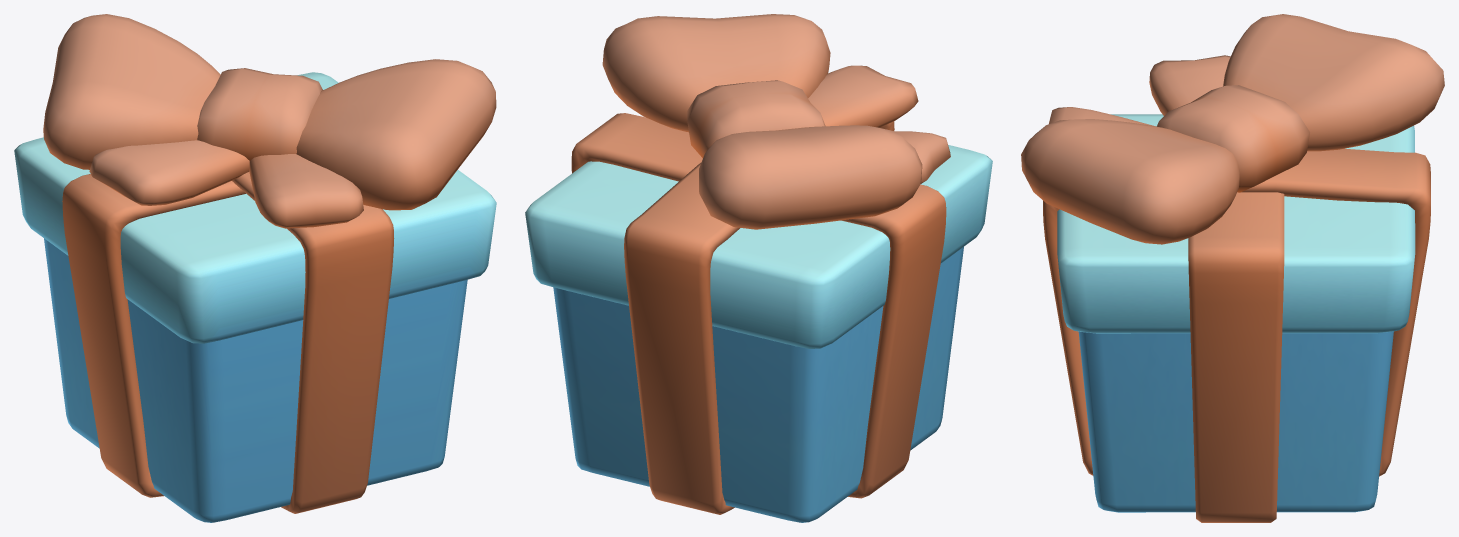
File: gift 01.fbx
The picture shows the model from 3 angles, left to right: view 1: azimuth 30°, elevation 25°; view 2: azimuth 150°, elevation 25°; view 3: azimuth 270°, elevation 25°; orthographic projection. The views are drawn at different scales.
Parts seen in each view (by area): view 1: gift 01 tie, gift 01 box, gift 01 rope, gift 01 lid; view 2: gift 01 tie, gift 01 rope, gift 01 box, gift 01 lid; view 3: gift 01 tie, gift 01 rope, gift 01 box, gift 01 lid.
Boxes of the visible parts, x1,y1,x2,y2 form: gift 01 tie: (43, 14, 496, 228); gift 01 box: (44, 238, 467, 522); gift 01 rope: (62, 172, 394, 513); gift 01 lid: (14, 72, 496, 343); gift 01 tie: (602, 14, 950, 229); gift 01 rope: (571, 113, 946, 514); gift 01 box: (553, 247, 963, 522); gift 01 lid: (525, 145, 992, 348); gift 01 tie: (1021, 14, 1444, 244); gift 01 rope: (1043, 148, 1430, 522); gift 01 box: (1078, 331, 1393, 512); gift 01 lid: (1057, 114, 1415, 333).
Size of the model in its own units: 13.04 by 12.88 by 12.81.
